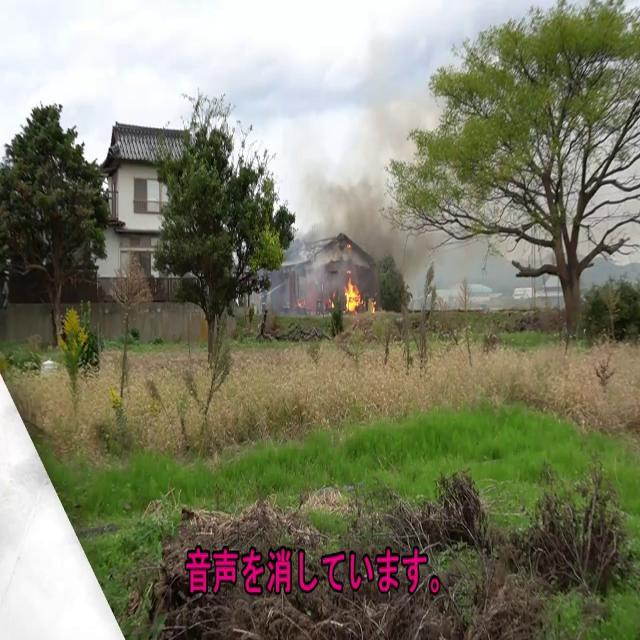Fire: (342, 266, 364, 316)
Smoke: (290, 63, 414, 289)
